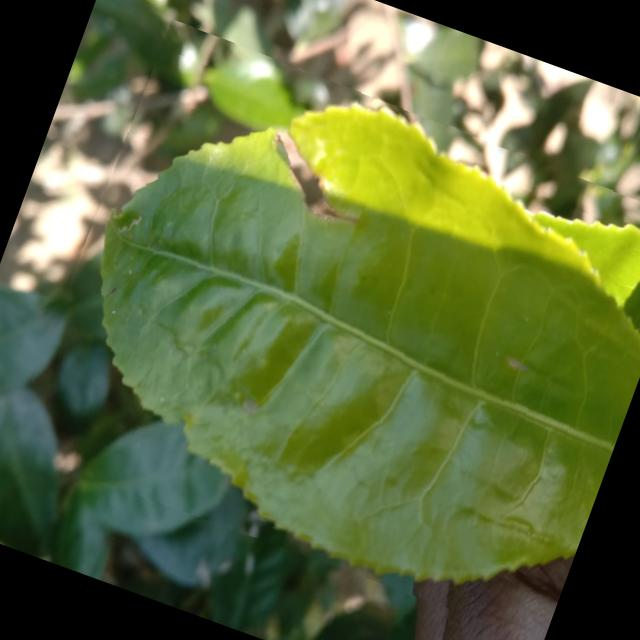Category B(2-4 days): (6, 15, 640, 640)
